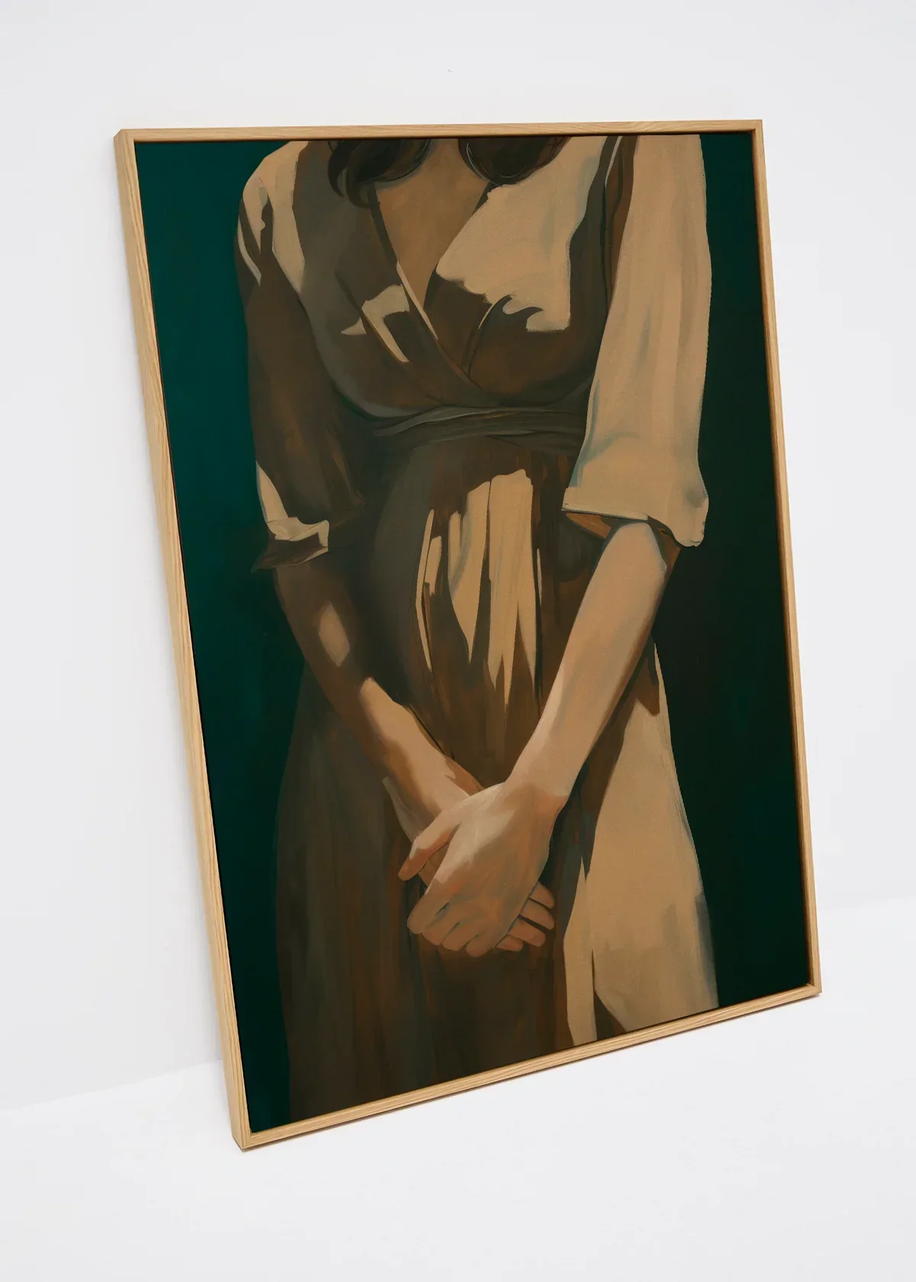painting: (230, 133, 724, 1116)
